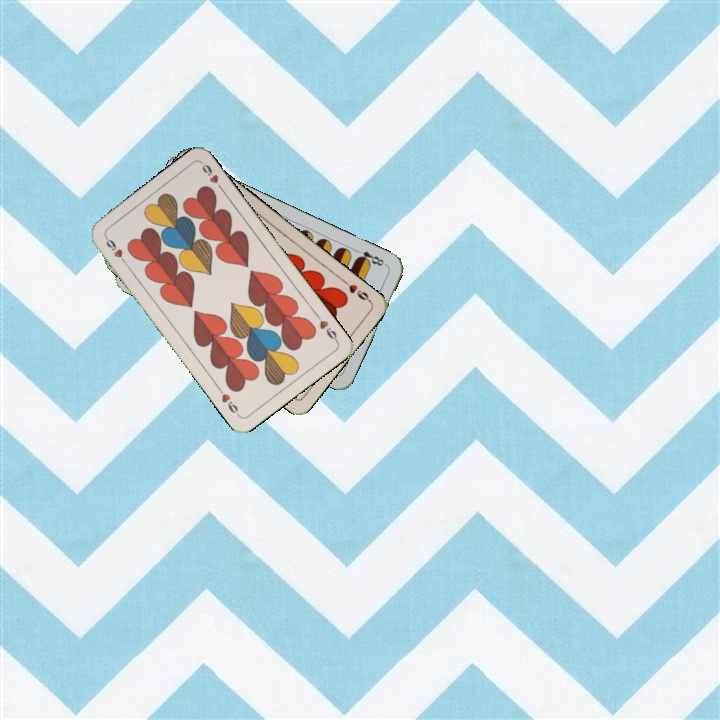E8: (351, 245, 389, 269)
H9: (311, 310, 341, 345), (101, 232, 130, 268), (339, 275, 373, 305)
